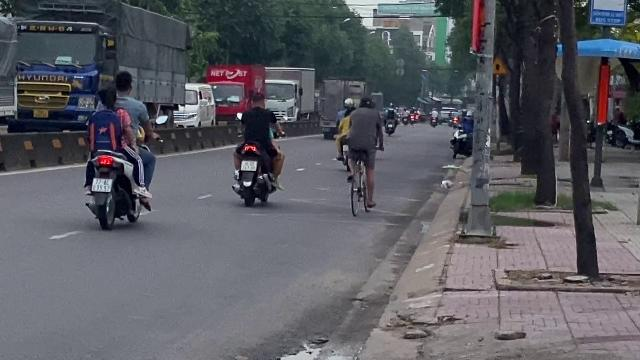licenseplate: (92, 178, 111, 190), (240, 160, 256, 170)
motorcyclist: (80, 67, 156, 228), (228, 88, 284, 206)
nohelmet: (111, 69, 133, 95), (96, 84, 118, 108), (248, 90, 266, 108)
